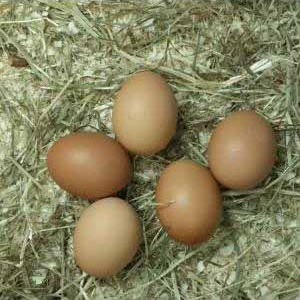egg: (152, 154, 225, 245), (44, 132, 134, 196), (113, 69, 179, 156), (209, 111, 278, 190), (75, 197, 143, 277)
